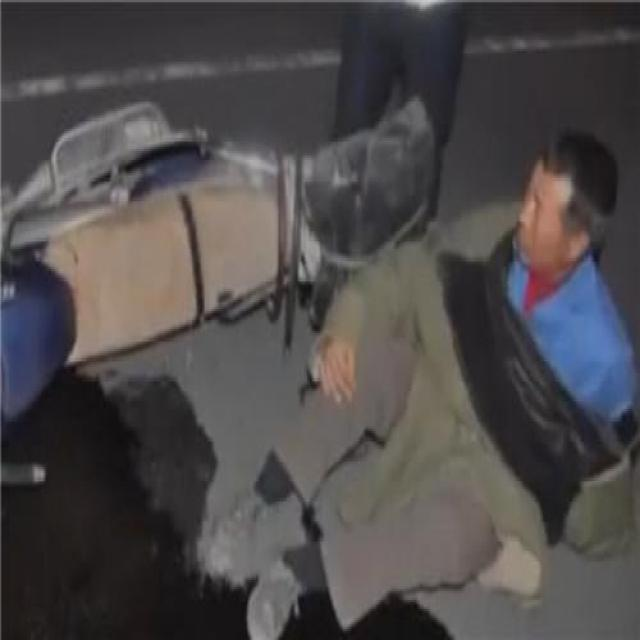down: (267, 111, 624, 605)
